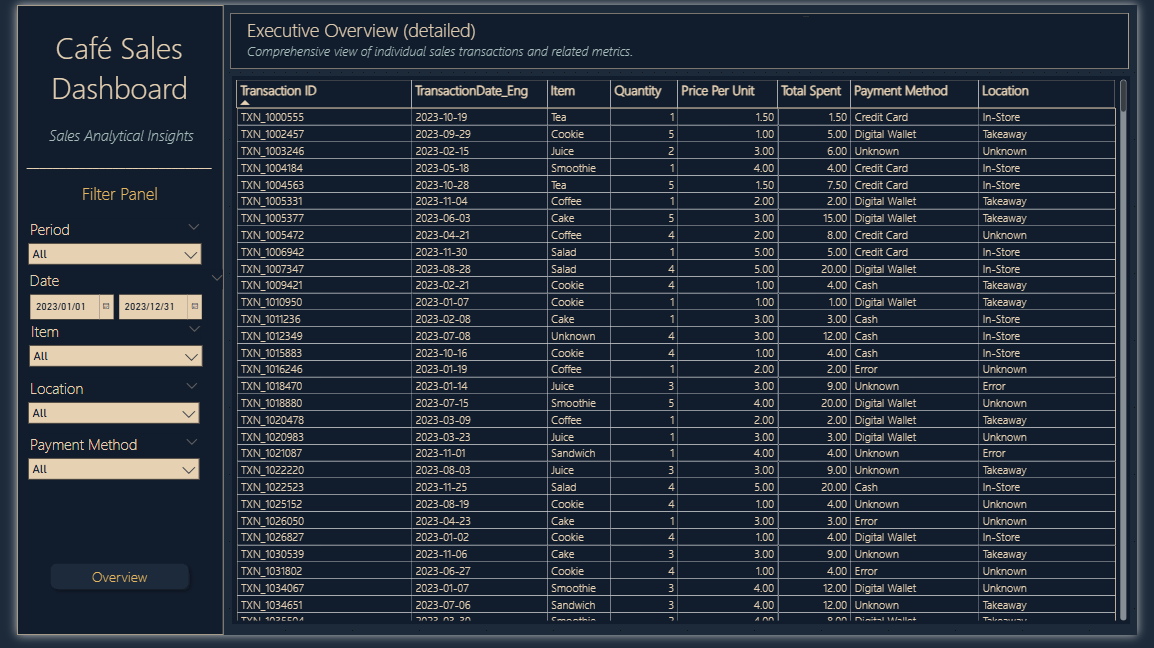

What the dashboard file says about the page in this screenshot:
{"tool":"powerbi","page":{"name":"Detailed Summary","canvas":[1600,900],"ordinal":1},"visuals":[{"type":"tableEx","fields":{"Values":["cleaned_cafe_sales.Transaction ID","cleaned_cafe_sales.TransactionDate_Eng","cleaned_cafe_sales.Item","cleaned_cafe_sales.Quantity","cleaned_cafe_sales.Price Per Unit","cleaned_cafe_sales.Total Spent","cleaned_cafe_sales.Payment Method","cleaned_cafe_sales.Location"]},"box":[306.7,101.1,1283.3,783.3],"z":0},{"type":"shape","box":[0,0,295,900],"z":1000},{"type":"textbox","box":[8.9,0,278.9,895.6],"z":2000},{"type":"slicer","fields":{"Values":["Date.Date"]},"box":[9.6,372.5,296.8,161.4],"z":3000},{"type":"slicer","fields":{"Values":["Date.Year","Date.Month"]},"box":[5.7,300.7,267.8,80],"z":4000},{"type":"slicer","fields":{"Values":["cleaned_cafe_sales.Item"]},"box":[6.8,446.2,267.5,80],"z":5000},{"type":"slicer","fields":{"Values":["cleaned_cafe_sales.Location"]},"box":[5.5,527.5,265,80],"z":6000},{"type":"slicer","fields":{"Values":["cleaned_cafe_sales.Payment Method"]},"box":[5.5,607.5,265,95],"z":7000},{"type":"shape","box":[304.3,11.4,1284.3,80],"z":7001},{"type":"textbox","box":[322.9,11.4,812.9,70],"z":7002},{"type":"shape","box":[1048.3,16.7,174.4,70],"z":7003},{"type":"pageNavigator","title":"Detailed Summary","box":[38.8,788.8,216.2,55],"z":7005}]}

Visuals, with their boxes on the page's 1600x900 design canvas (x1, y1, x2, y2). These are canvas units, not pixel positions in the 1154x648 screenshot, which may show the page scaled, cropped or inside an application window:
tableEx - cleaned_cafe_sales.Transaction ID x cleaned_cafe_sales.TransactionDate_Eng: (307,101,1590,884)
shape: (0,0,295,900)
textbox: (9,0,288,896)
slicer - Date.Date: (10,372,306,534)
slicer - Date.Year x Date.Month: (6,301,274,381)
slicer - cleaned_cafe_sales.Item: (7,446,274,526)
slicer - cleaned_cafe_sales.Location: (6,528,270,608)
slicer - cleaned_cafe_sales.Payment Method: (6,608,270,702)
shape: (304,11,1589,91)
textbox: (323,11,1136,81)
shape: (1048,17,1223,87)
"Detailed Summary" pageNavigator: (39,789,255,844)
